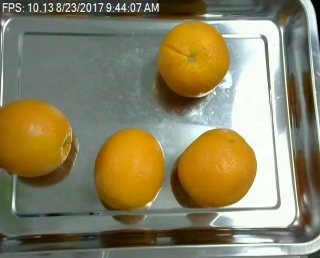Orange: (176, 127, 258, 208), (94, 128, 166, 210), (157, 20, 230, 97), (1, 99, 73, 177)
